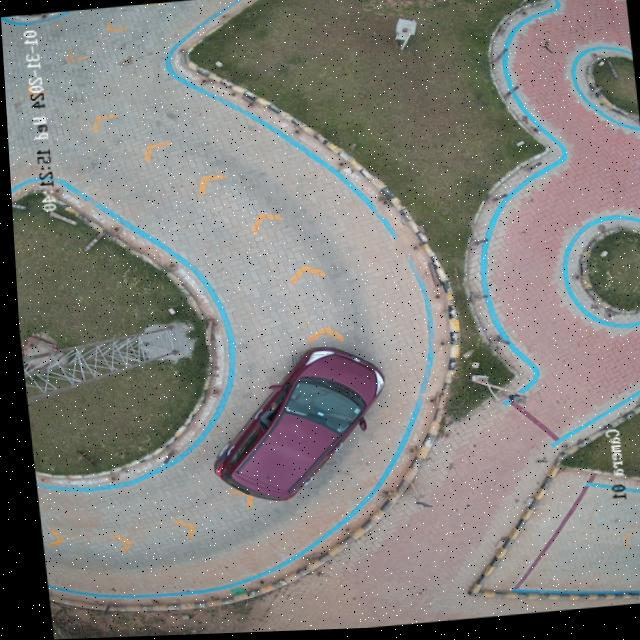car: (208, 348, 379, 502)
